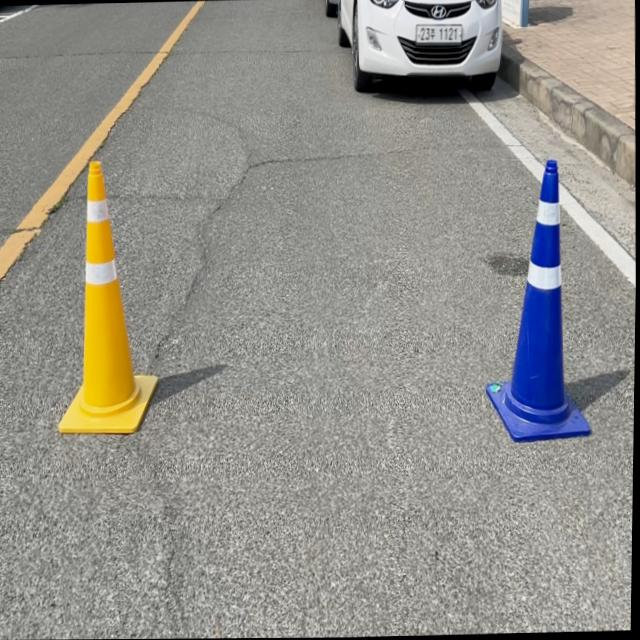b_rub: (488, 159, 593, 441)
y_rub: (59, 160, 158, 432)
